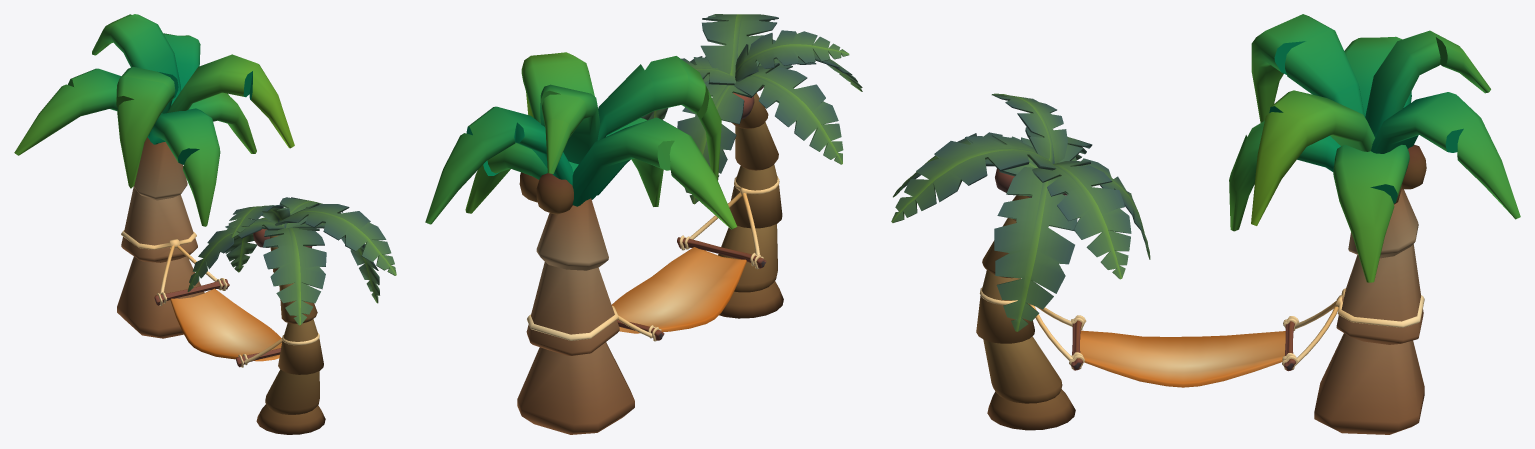
Rendered from Hammock_Tree_01.fbx.
3 views of the same model, side by side, from view 1: azimuth 30°, elevation 25°; view 2: azimuth 150°, elevation 25°; view 3: azimuth 270°, elevation 25° (orthographic). The views are drawn at different scales.
Visible parts, largest first — view 1: Hammock_Tree_01; view 2: Hammock_Tree_01; view 3: Hammock_Tree_01.
Boxes of the visible parts, <box> form: Hammock_Tree_01: <box>14,14,396,434</box>; Hammock_Tree_01: <box>425,14,862,434</box>; Hammock_Tree_01: <box>891,14,1520,434</box>.
Bounding box in the file's own units: 457 × 540 × 830.
